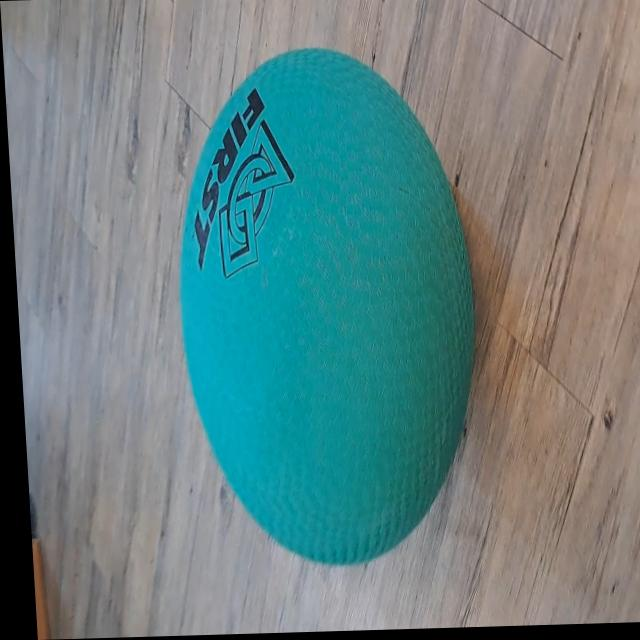ALGAE: (163, 41, 490, 572)
